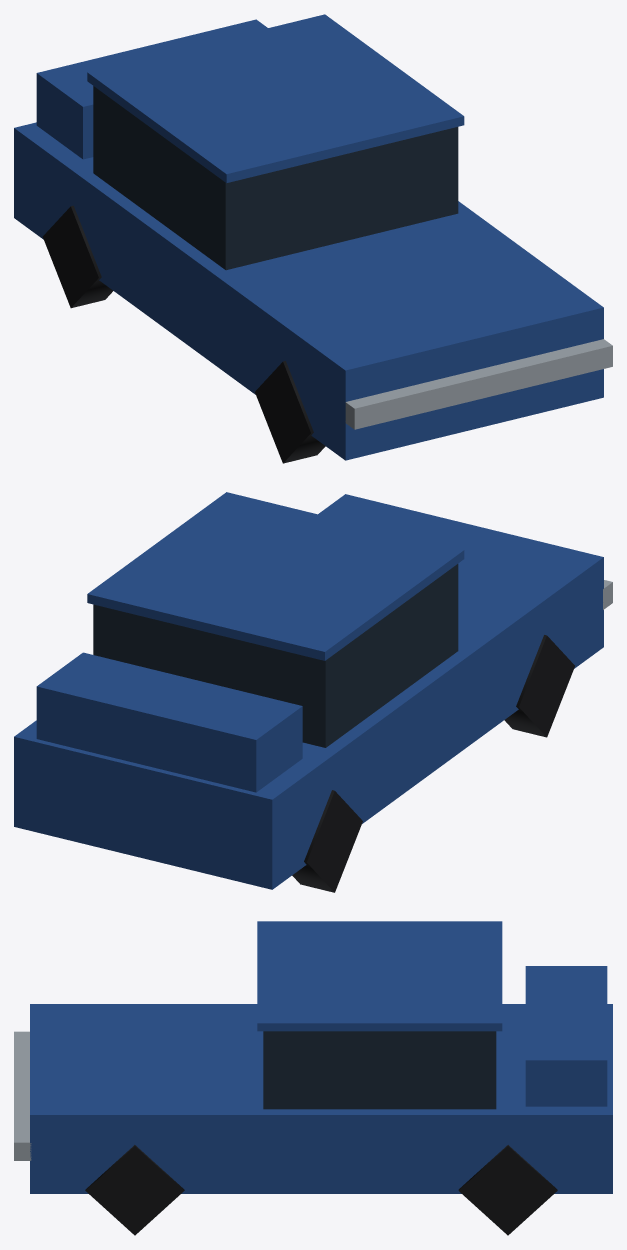
Rendered from veh_ground_car_a06_lod2.glb.
3 views of the same model, one above another, from view 1: azimuth 30°, elevation 25°; view 2: azimuth 150°, elevation 25°; view 3: azimuth 270°, elevation 25° (orthographic). The views are drawn at different scales.
Visible parts, largest first — view 1: body, wheel_0, wheel_2; view 2: body, wheel_0, wheel_2; view 3: body, wheel_1, wheel_3.
Boxes of the visible parts, x1,y1,x2,y2 form: body: [14, 14, 612, 460]; wheel_0: [42, 205, 112, 308]; wheel_2: [255, 361, 325, 463]; body: [14, 492, 612, 889]; wheel_0: [292, 790, 362, 892]; wheel_2: [504, 635, 574, 737]; body: [14, 921, 612, 1193]; wheel_1: [458, 1145, 557, 1235]; wheel_3: [85, 1145, 184, 1235].
Size of the model in its own units: 1.84 by 1.57 by 4.11.
